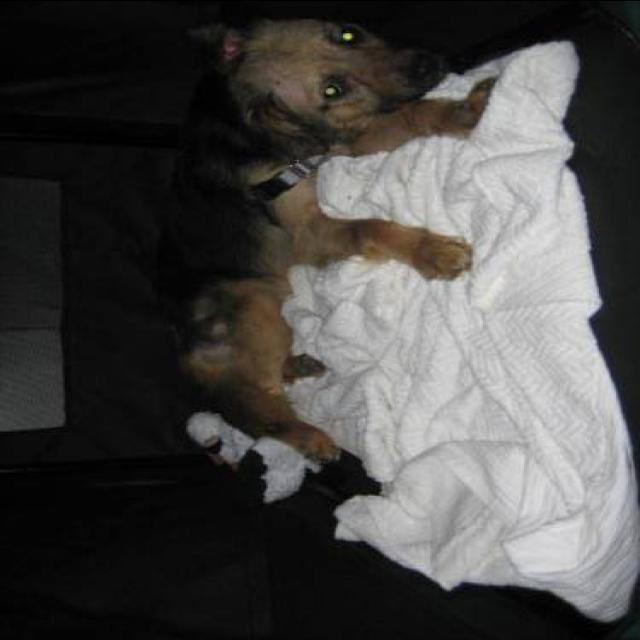dog: (143, 0, 524, 486)
